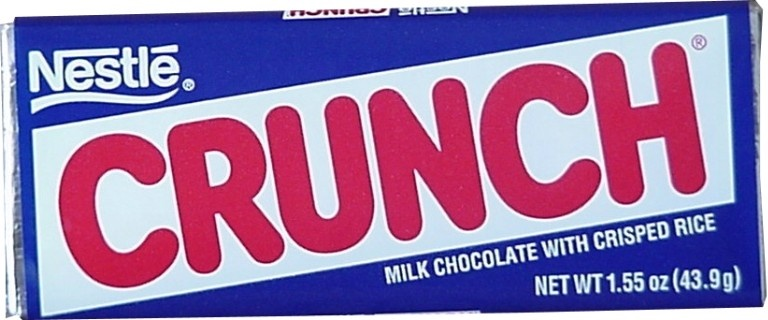grozi_50: (0, 0, 767, 319)
